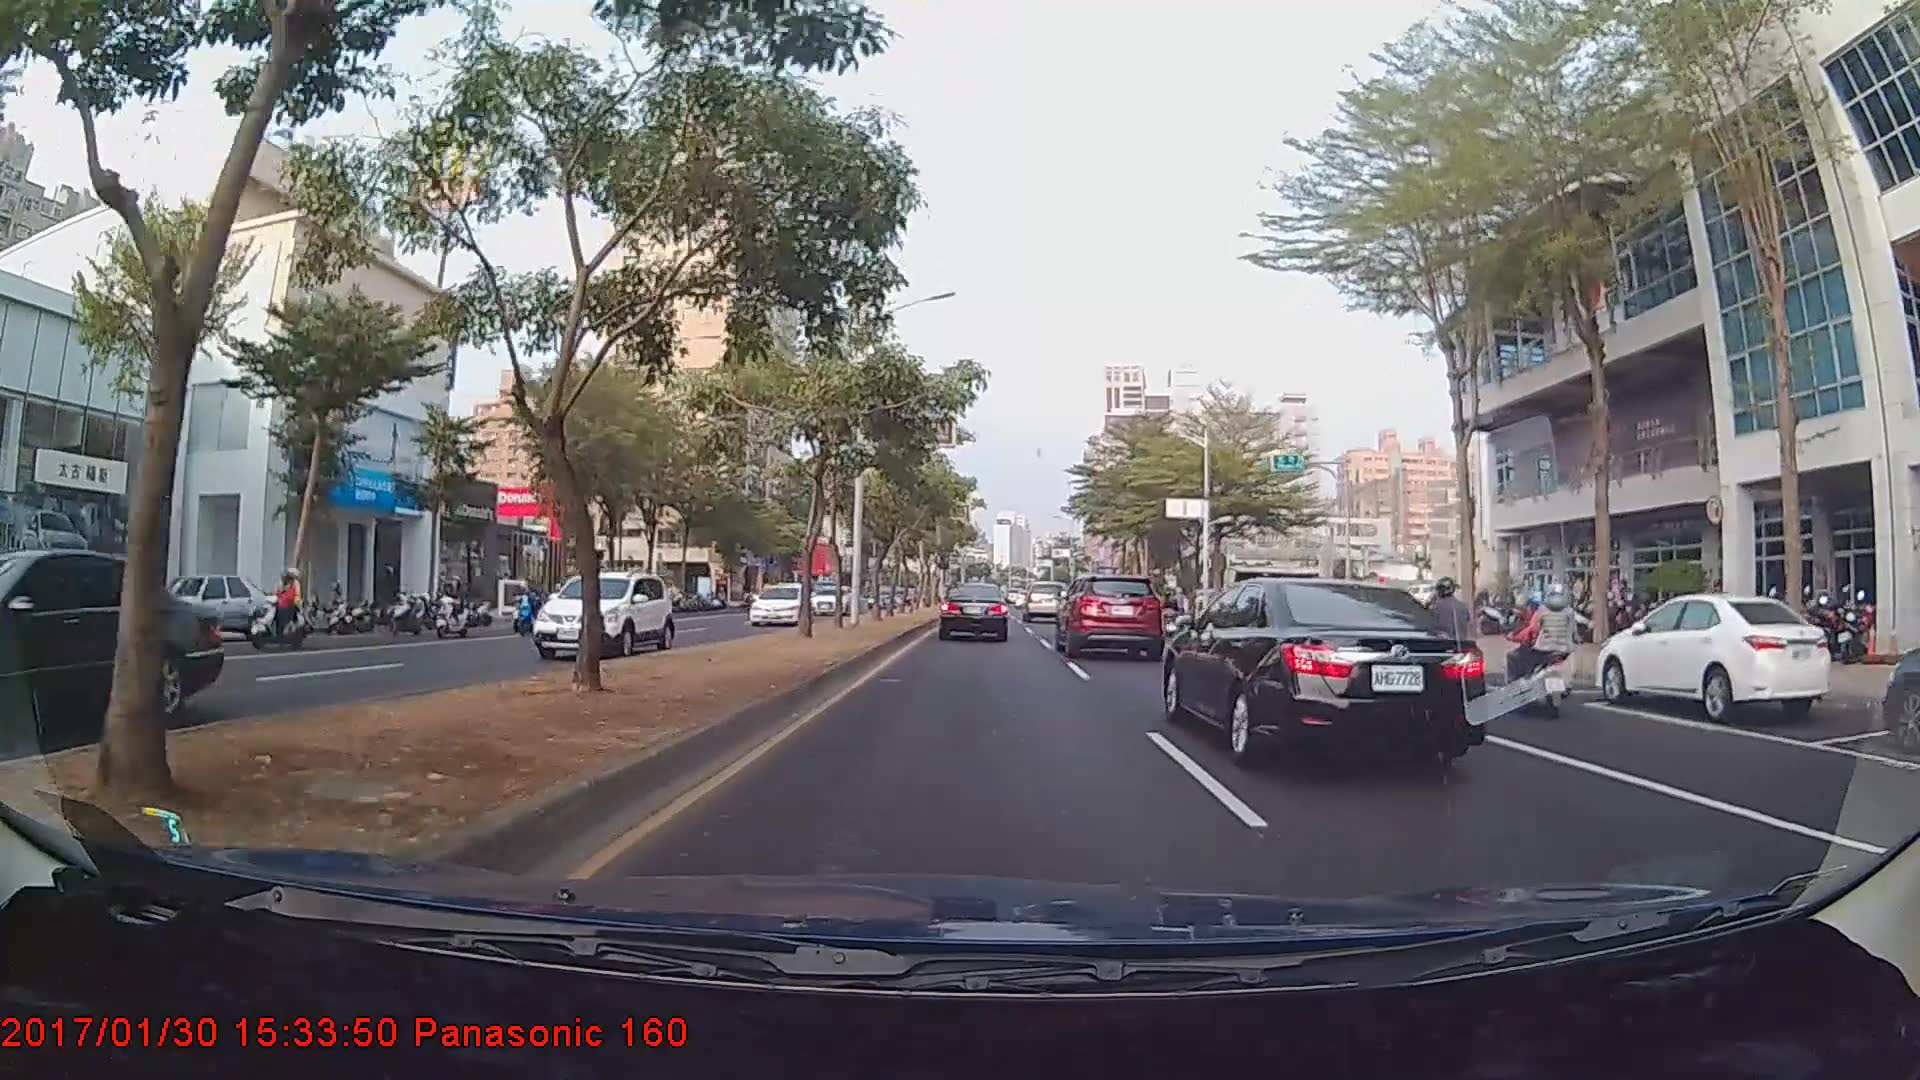rider: (1487, 578, 1583, 721), (1393, 572, 1480, 724), (246, 565, 311, 655)
vehicle: (1166, 565, 1475, 774), (0, 544, 225, 759), (1609, 588, 1833, 721), (530, 569, 675, 661), (129, 574, 276, 647), (1058, 572, 1163, 658), (937, 583, 1010, 642), (747, 584, 812, 626), (806, 585, 857, 615), (1024, 581, 1061, 621)
